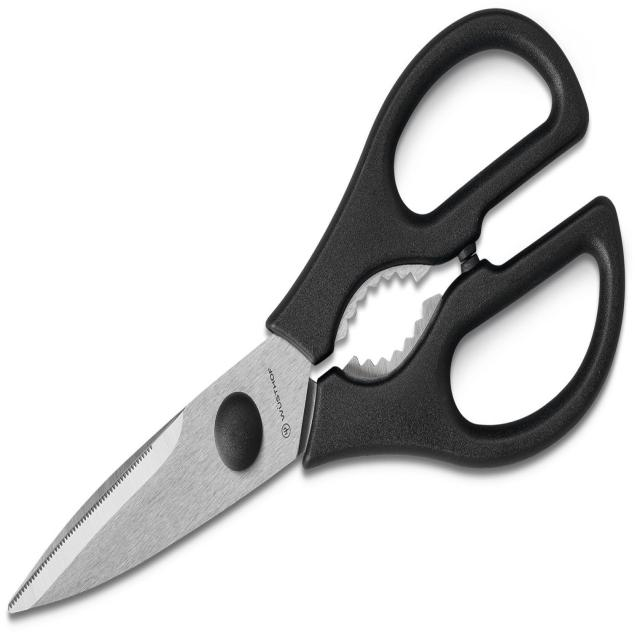Gunting: (4, 6, 626, 622)
